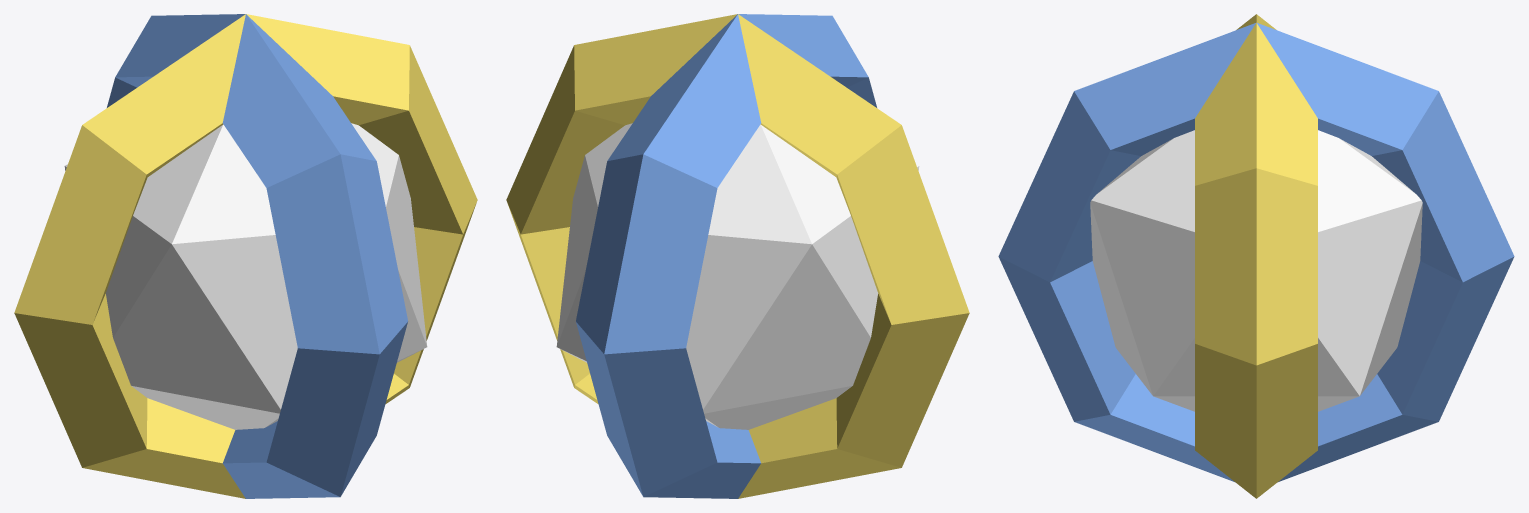
File: Volleyball.fbx
3 renders of one model, left to right at view 1: azimuth 30°, elevation 25°; view 2: azimuth 150°, elevation 25°; view 3: azimuth 270°, elevation 25°, orthographic. The views are drawn at different scales.
Visible parts, largest first — view 1: Body; view 2: Body; view 3: Body.
Part boxes in pixels (x1=…): Body: x1=14, y1=14, x2=477, y2=498; Body: x1=506, y1=14, x2=969, y2=498; Body: x1=998, y1=14, x2=1514, y2=498.
Bounding box in the file's own units: 0.42 × 0.42 × 0.42.
